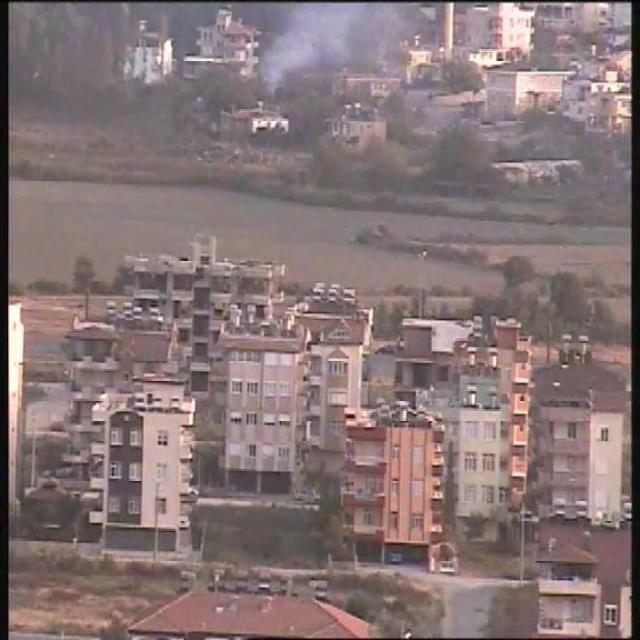smoke: (258, 10, 350, 96)
